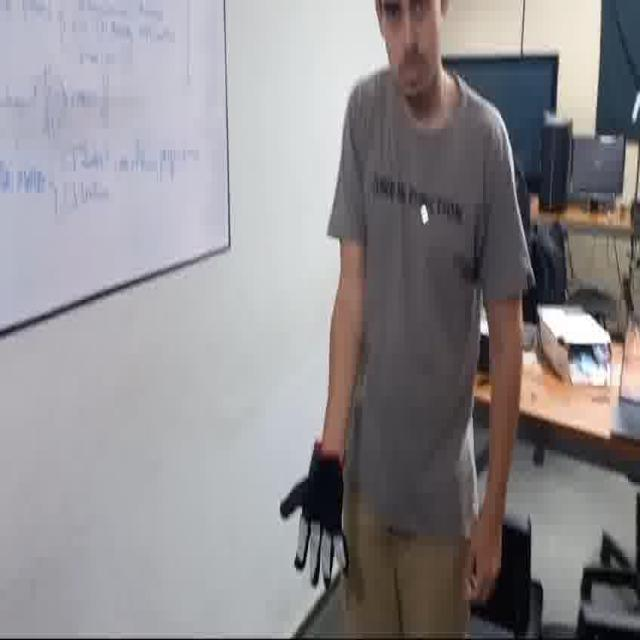Gloves: (281, 442, 351, 591)
